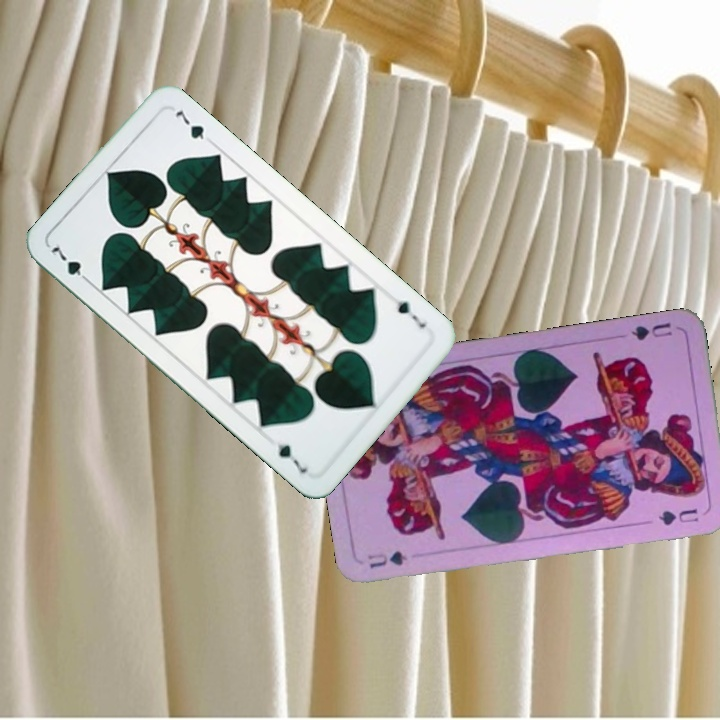G7: (46, 240, 94, 287), (393, 296, 429, 331)
GU: (627, 318, 675, 343), (364, 546, 410, 571)
